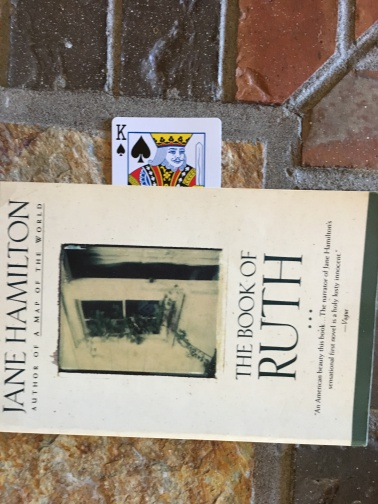king: (111, 115, 223, 194)
